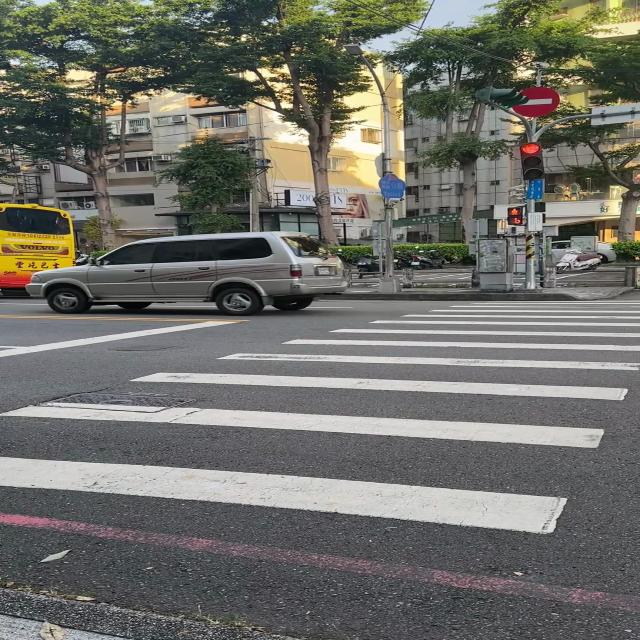bus: (0, 202, 75, 290)
car: (26, 231, 346, 314)
crosswalk: (0, 298, 640, 536)
